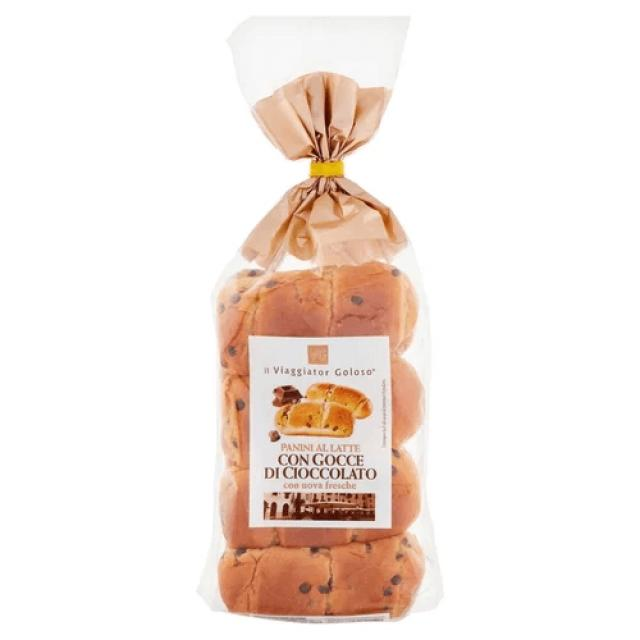Bread loaf: (210, 17, 447, 625)
